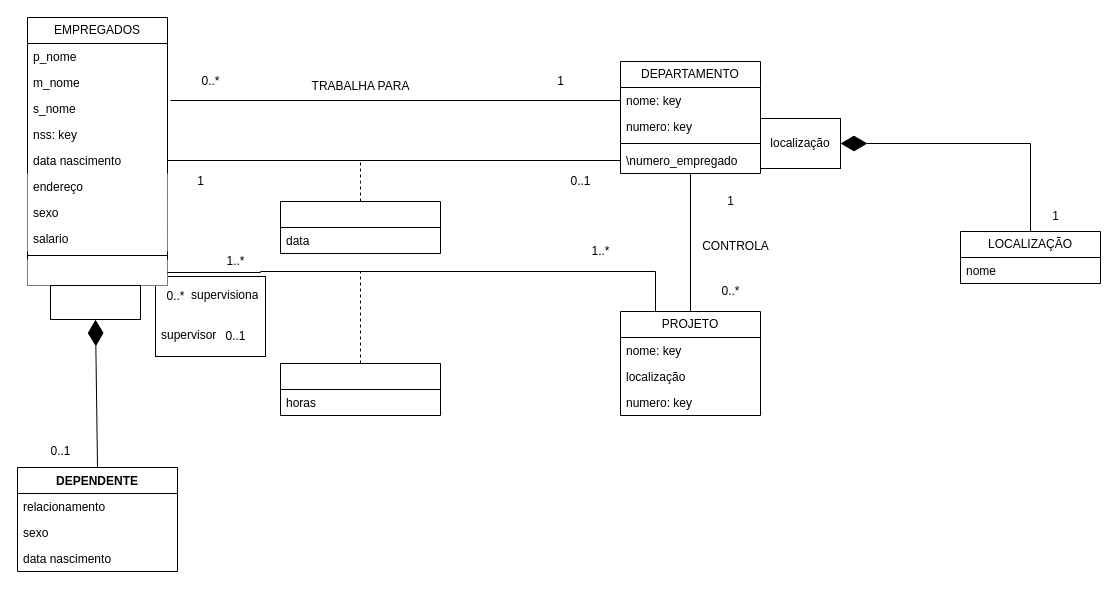
Some shapes in this 1118 by 592 pixel diagram are drawn without their labels. Each missing label, with the box of its shape:
GERENCIA: (280, 200, 440, 254)
idade: (27, 259, 167, 285)
nome dependente: (50, 284, 140, 320)
TRABALHA EM: (280, 362, 440, 416)
